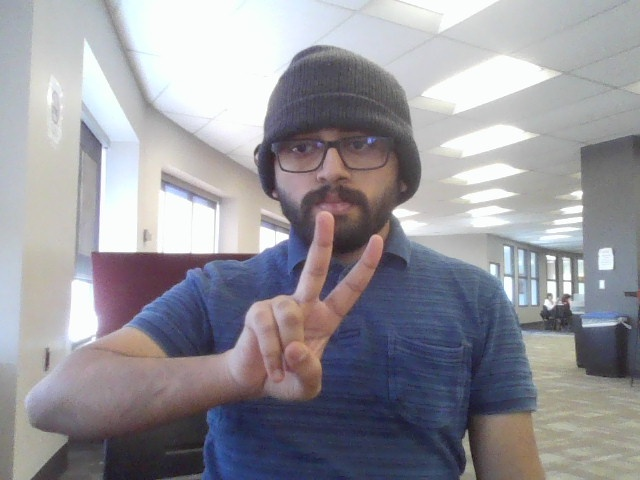start: (237, 207, 396, 438)
